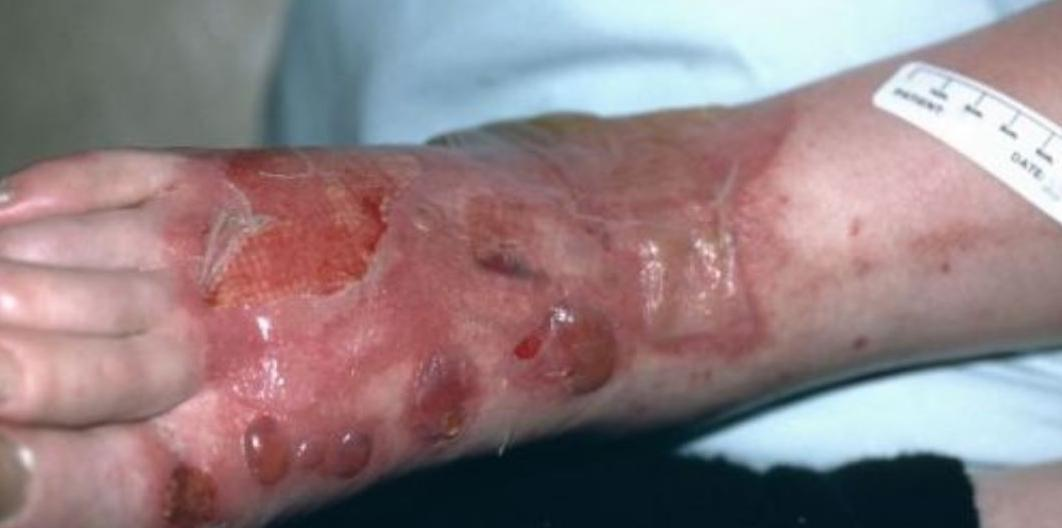NonPU: (63, 157, 739, 483)
